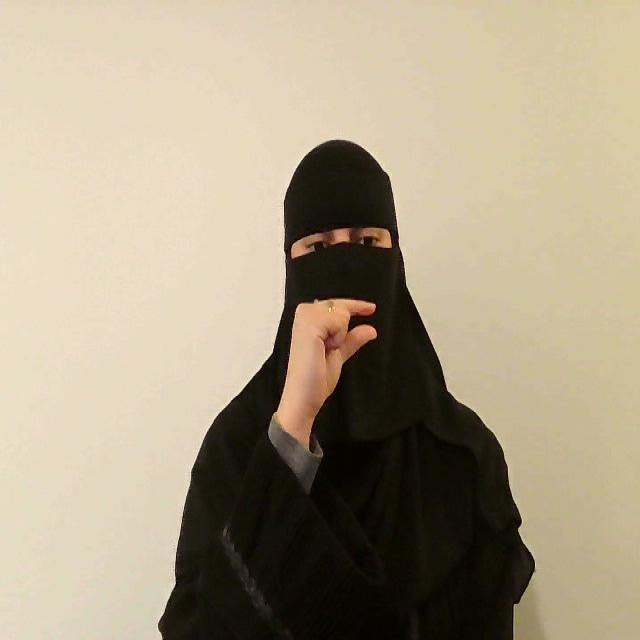fasting: (275, 295, 378, 441)
